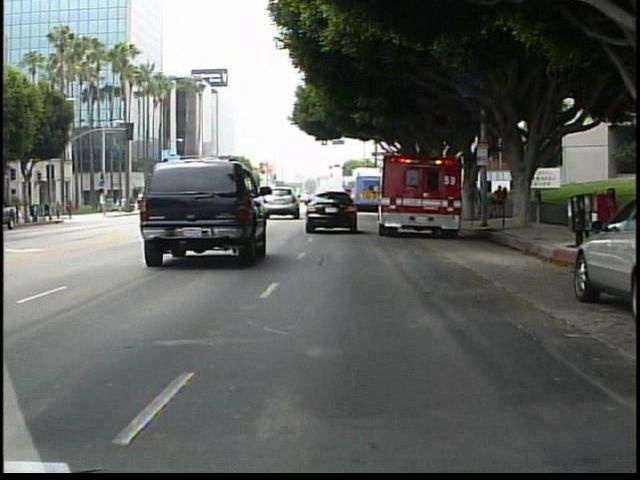person: (493, 184, 508, 221), (65, 196, 78, 222), (53, 197, 65, 221)
